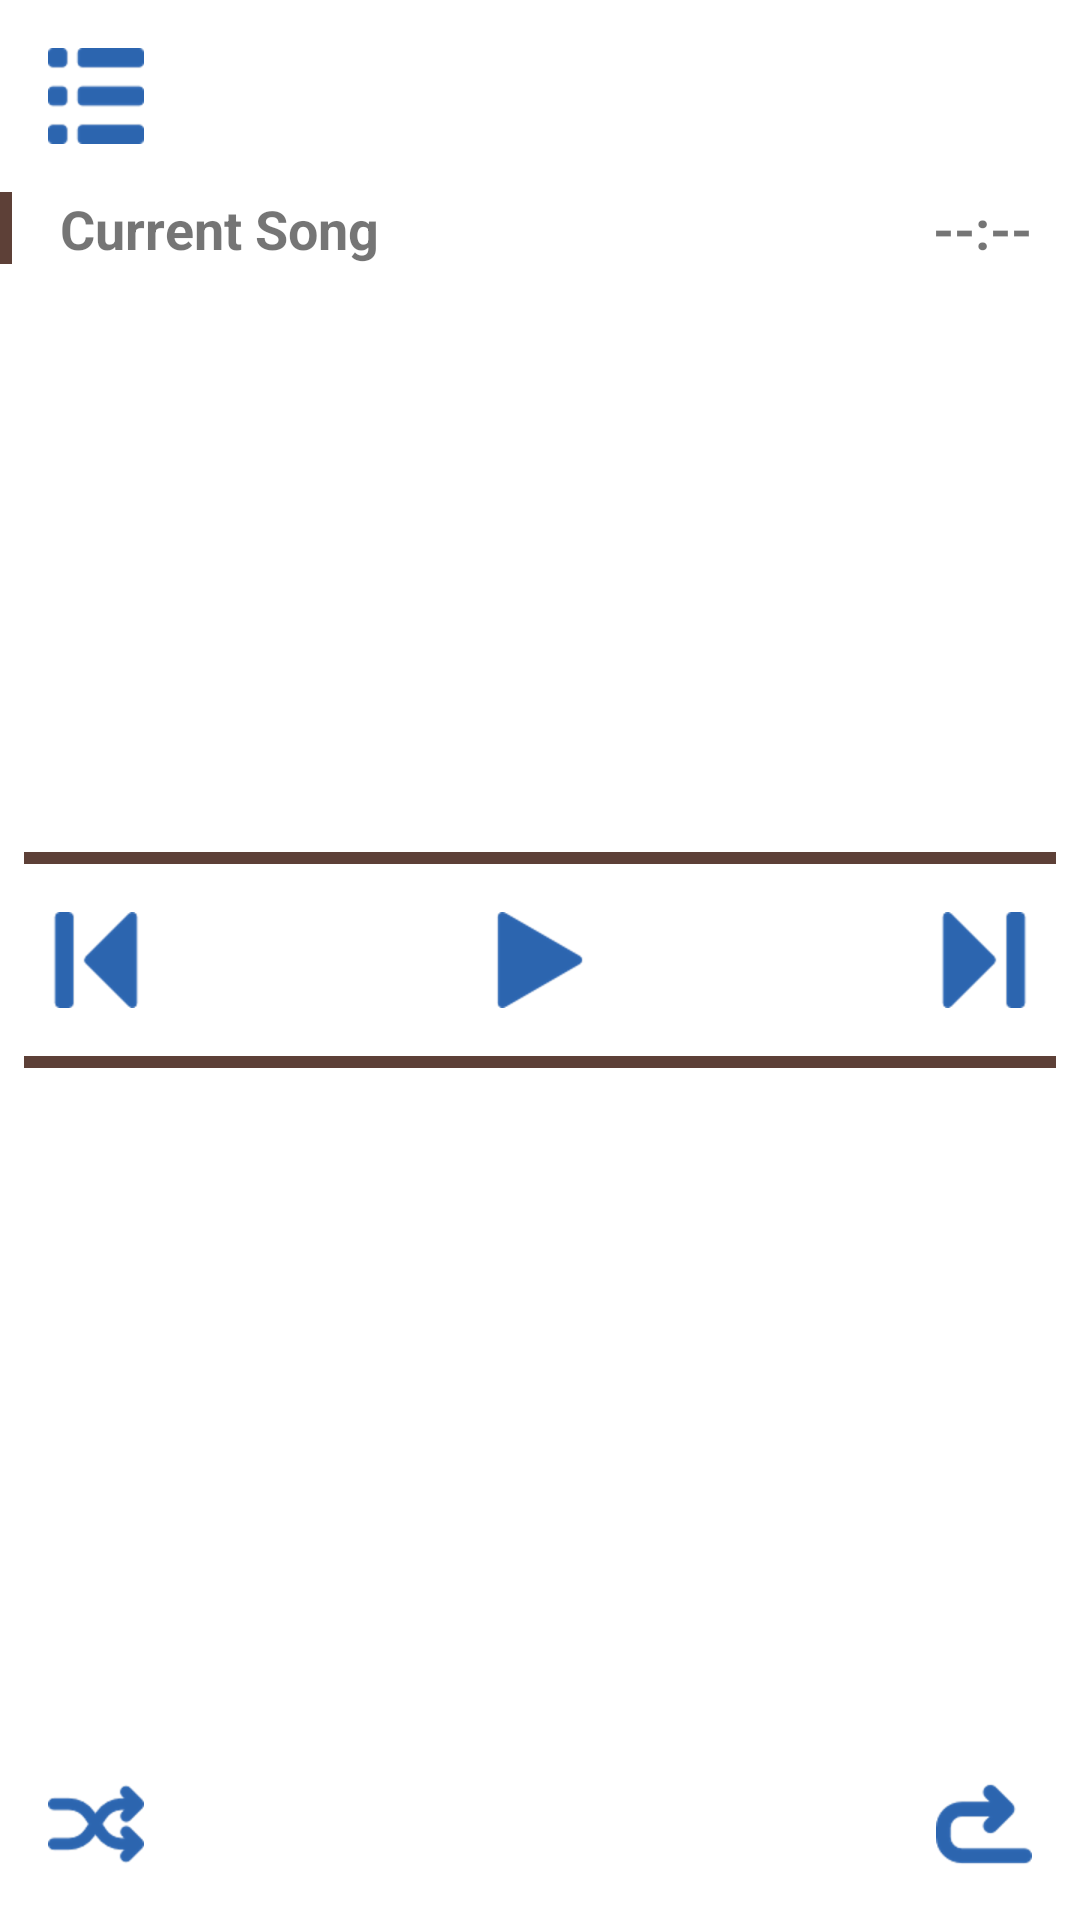

Named icons in this screenshot (1080x1920) and their bounding boxes, (x1=x1, y1=y1, x2=x2, y2=y2):
play arrow: (x1=497, y1=912, x2=583, y2=1008)
returning curved right arrow: (x1=936, y1=1784, x2=1032, y2=1864)
